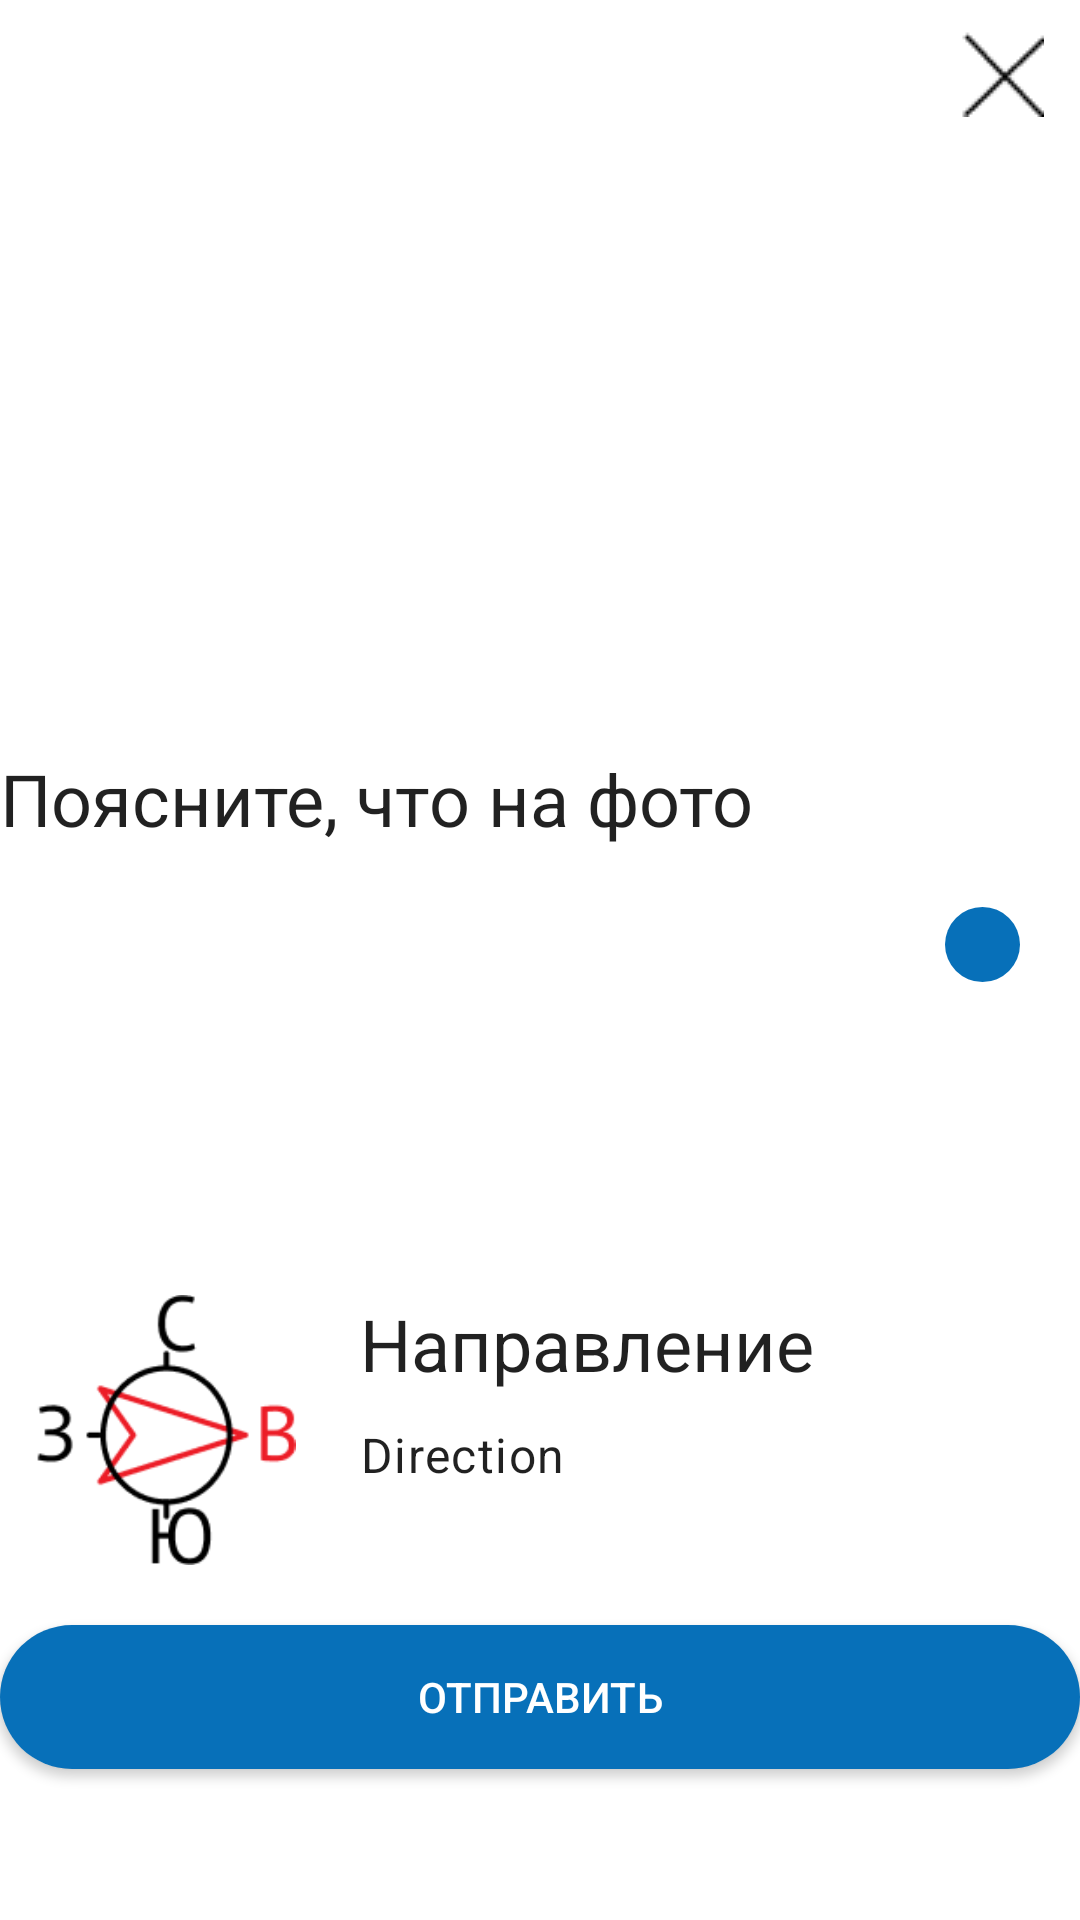

Icon click points for this 1080x1920 phone screenshot, format [x,y]:
cancel: [1003,75]
compass: [166,1430]
